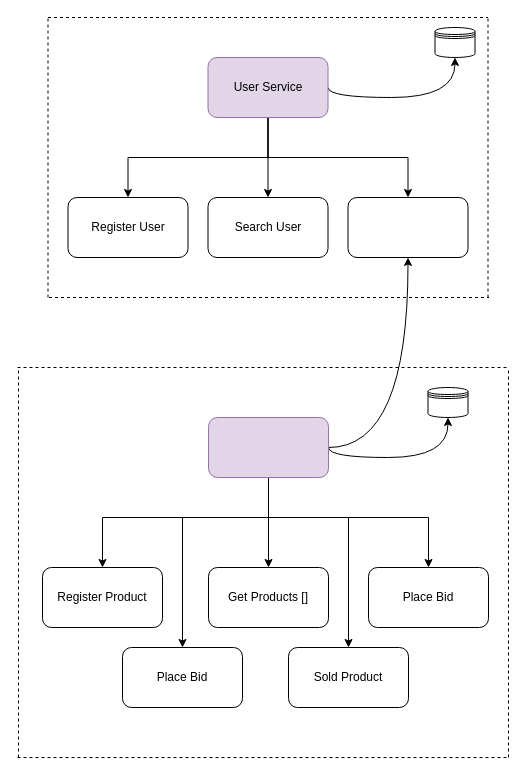
This 527x776 diagram has some shape labels left out. The shapes that lost their labels are listed below. From the top down, each one's centre as x and y in pixels, then its label:
[407,227]: Get User (Validate user token)
[268,447]: Biding Service
